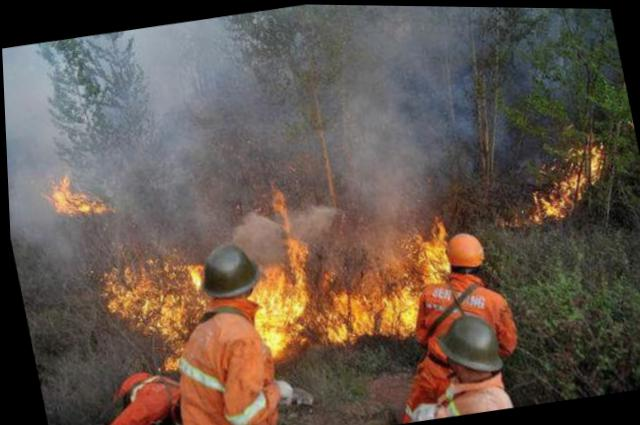fire: (91, 196, 480, 387), (483, 134, 619, 231), (39, 163, 116, 220)
